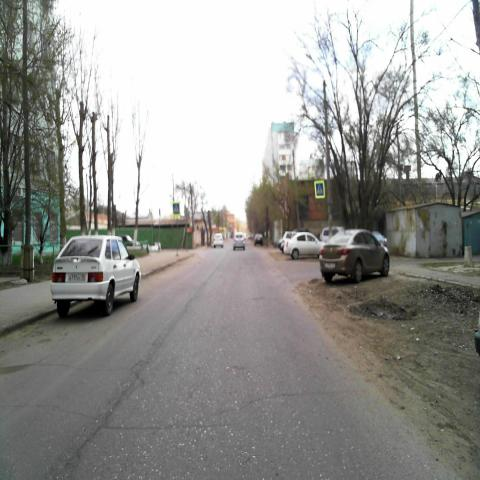5_19_1: (314, 179, 324, 198), (173, 201, 181, 216)
